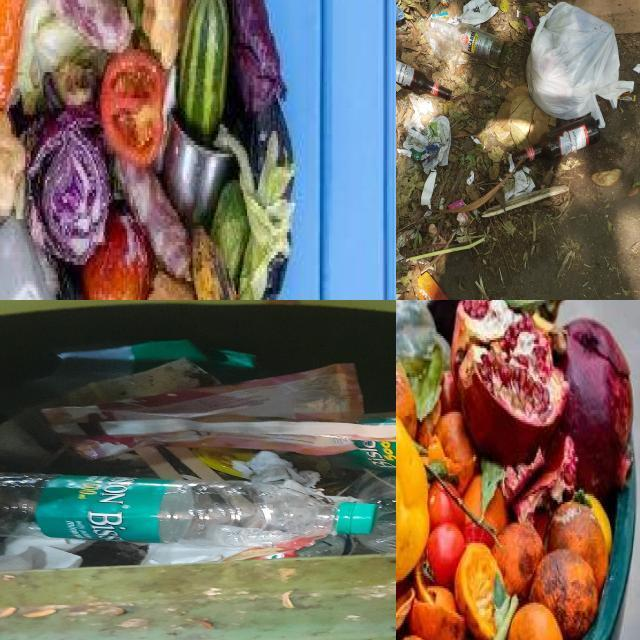Garbage: (0, 300, 396, 572), (396, 300, 630, 640), (396, 0, 640, 300)
Glass_bottle: (512, 116, 599, 164), (430, 18, 507, 67), (396, 59, 452, 101)
Metal: (162, 116, 234, 228)
Plastic_Bag: (527, 2, 633, 128), (424, 29, 459, 74), (457, 0, 498, 25)
Plastic_bottle: (0, 473, 377, 548), (0, 218, 57, 300), (355, 470, 396, 554)
Plastic_wraper: (43, 363, 396, 458), (60, 358, 221, 406), (142, 536, 323, 565), (191, 447, 259, 478), (525, 16, 536, 36), (431, 11, 450, 20)
Tetrapack: (418, 272, 449, 300), (438, 0, 451, 6)
contaminated_waste: (162, 116, 234, 227), (0, 218, 60, 300)
